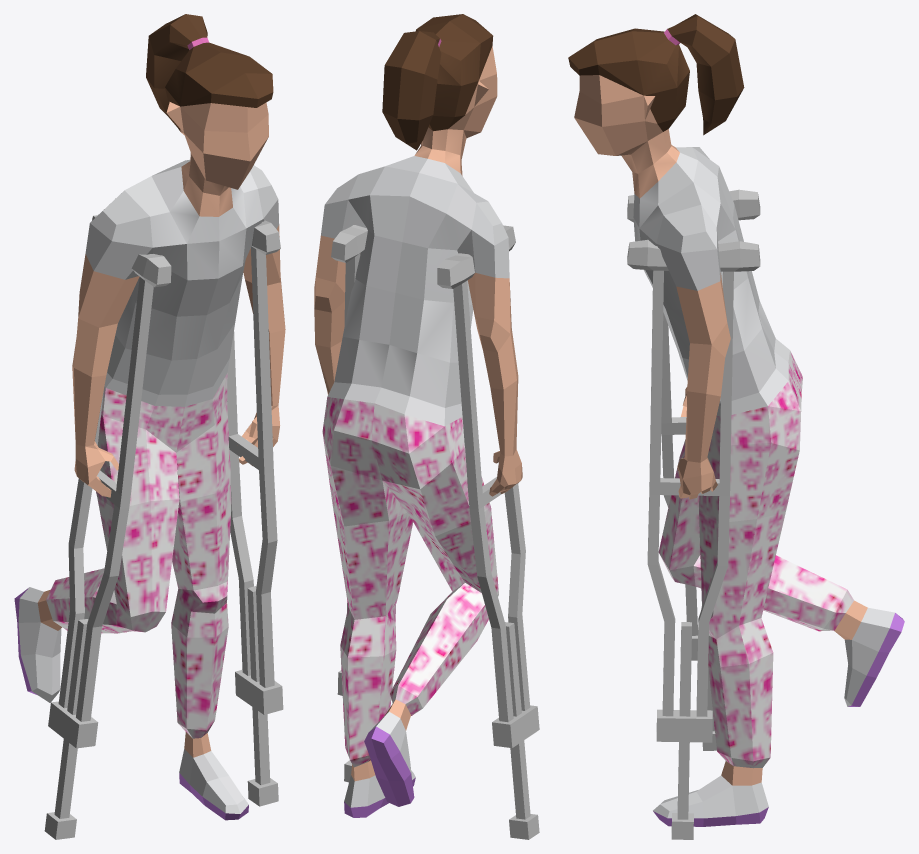
Rendered from Disabled People8.fbx.
The picture shows the model from 3 angles, left to right: view 1: azimuth 30°, elevation 25°; view 2: azimuth 150°, elevation 25°; view 3: azimuth 270°, elevation 25°; orthographic projection. The views are drawn at different scales.
Visible parts, largest first — view 1: OfficeManA.009; view 2: OfficeManA.009; view 3: OfficeManA.009.
Part boxes in pixels (left/top/right/bottom): OfficeManA.009: left=14, top=14, right=285, bottom=839; OfficeManA.009: left=314, top=14, right=539, bottom=839; OfficeManA.009: left=568, top=14, right=904, bottom=839.
Size of the model in its own units: 37.23 by 124 by 47.87.
